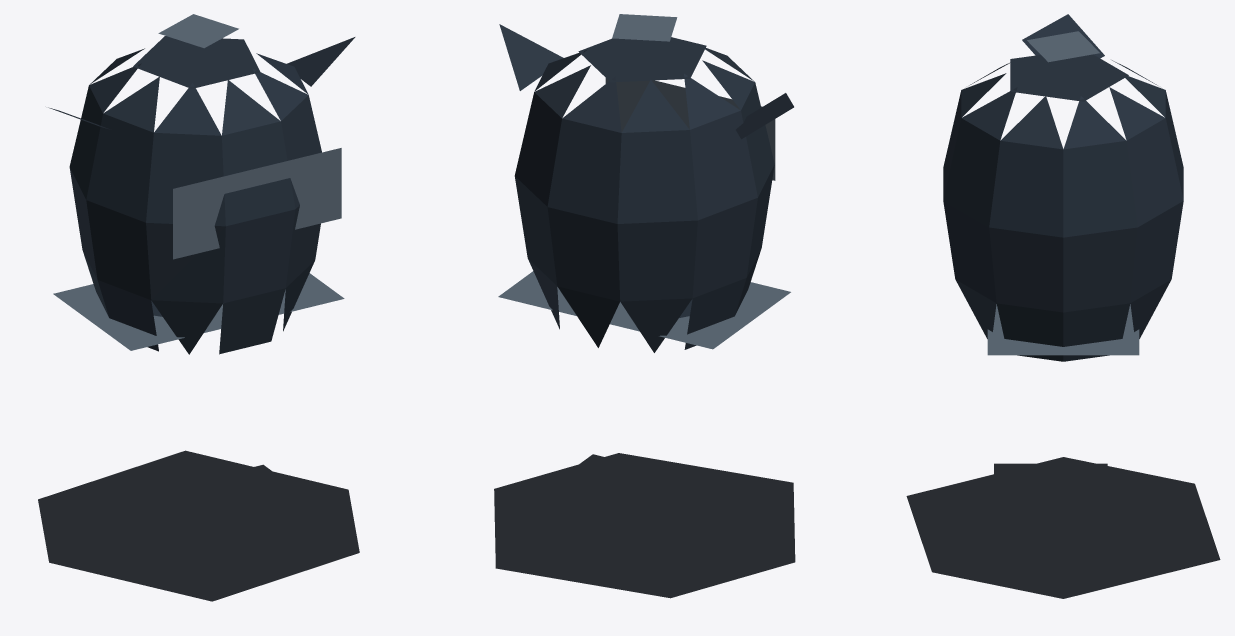
File: duranium-combat-suit.lod.glb
3 views of the same model, side by side, from view 1: azimuth 30°, elevation 25°; view 2: azimuth 150°, elevation 25°; view 3: azimuth 270°, elevation 25° (orthographic). The views are drawn at different scales.
Parts seen in each view (by area): view 1: m; view 2: m; view 3: m.
Boxes of the visible parts, box(x1,y1,x2,y2) form: m: box(38, 14, 359, 601); m: box(494, 14, 795, 598); m: box(906, 14, 1220, 598).
Bounding box in the file's own units: 0.3318 × 0.4248 × 0.2398.
